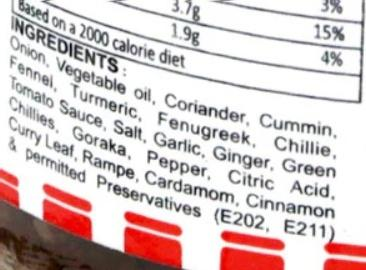ingredients: (11, 12, 348, 251)
